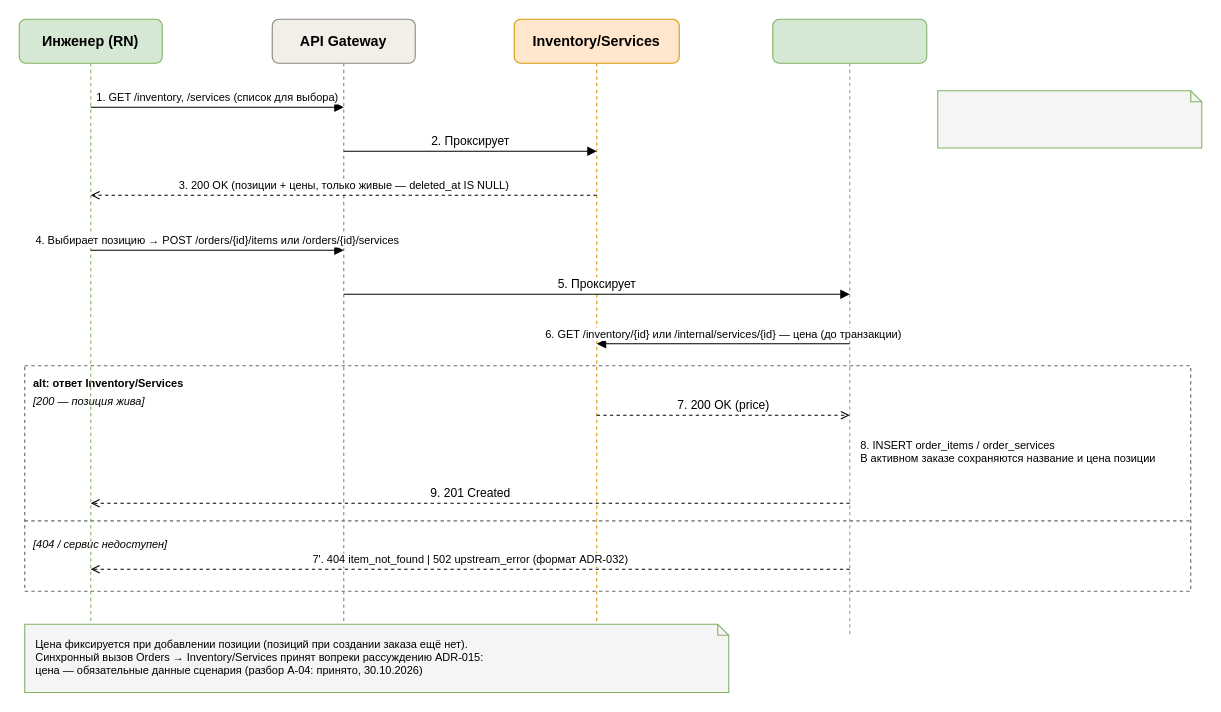
Some shapes in this 1221 by 712 pixel diagram are drawn without their labels. Here are the shapes that lost their labels. From the top down, the centre of each, then its label:
At (849,40): "Orders service".
At (1069,119): "Остаток НЕ списывается здесь — только при оплате (сага, ADR-030)".
